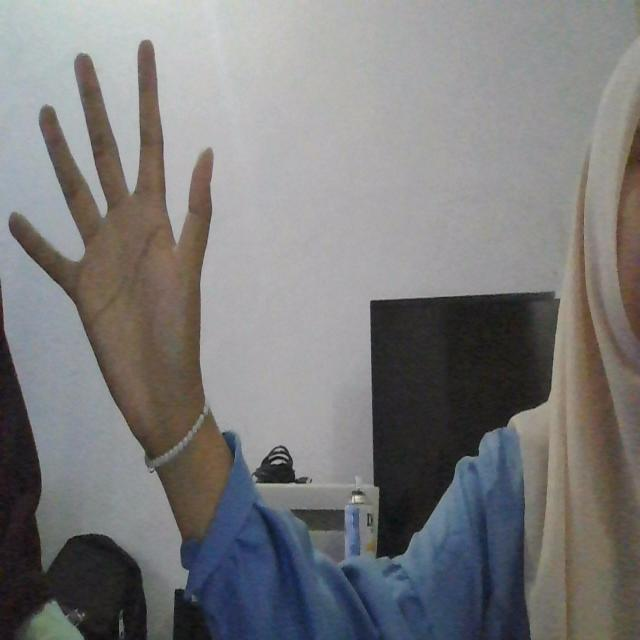hand: (9, 34, 217, 442)
